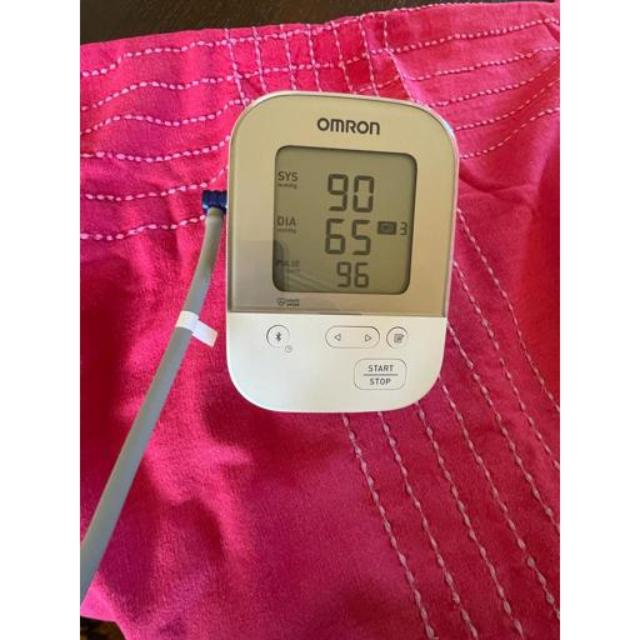Blood-Pressure-Monitor: (220, 85, 464, 423)
